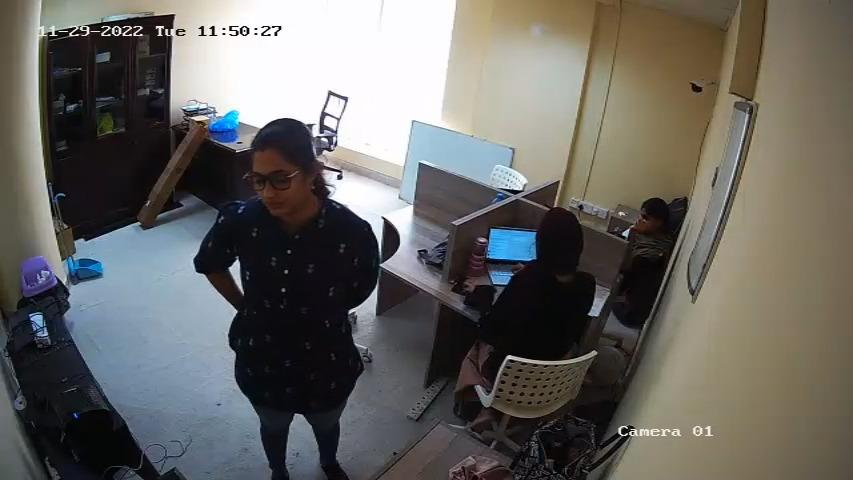no_apron: (246, 221, 339, 402)
